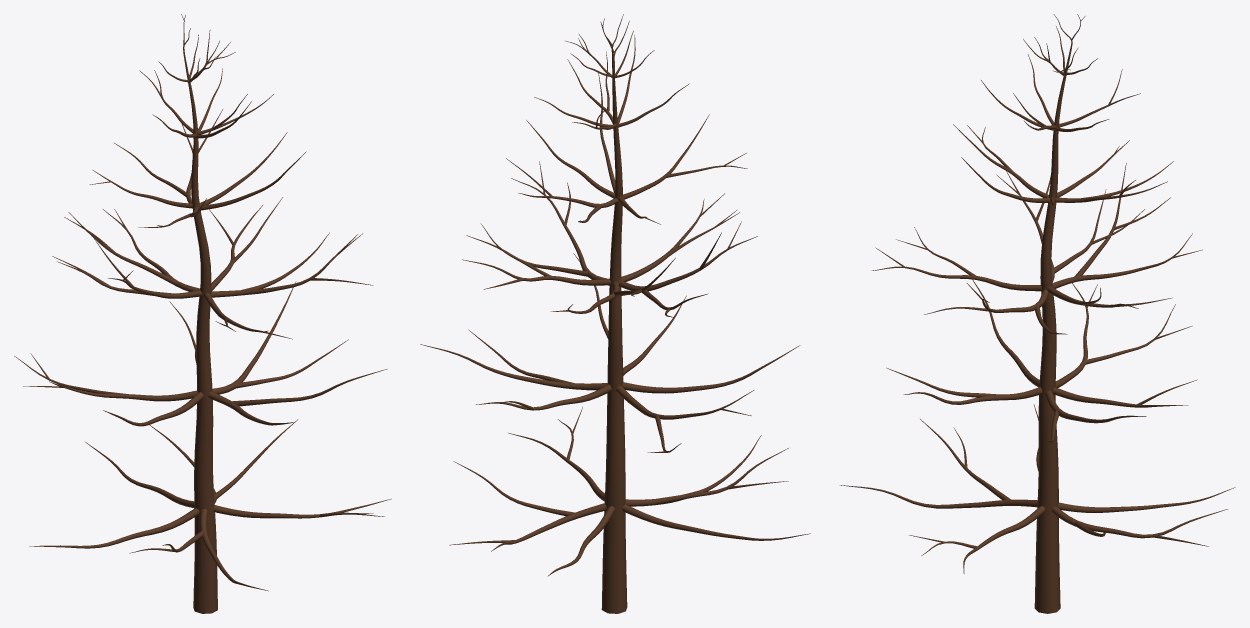
Rendered from dry trees.fbx.
3 renders of one model, left to right at view 1: azimuth 30°, elevation 25°; view 2: azimuth 150°, elevation 25°; view 3: azimuth 270°, elevation 25°, orthographic. The views are drawn at different scales.
Visible parts, largest first — view 1: tree; view 2: tree; view 3: tree.
Part boxes in pixels (x1,y1,x2,y2): tree: [14, 14, 391, 613]; tree: [420, 14, 810, 613]; tree: [839, 14, 1235, 613].
Bounding box in the file's own units: 120 × 205 × 124.
